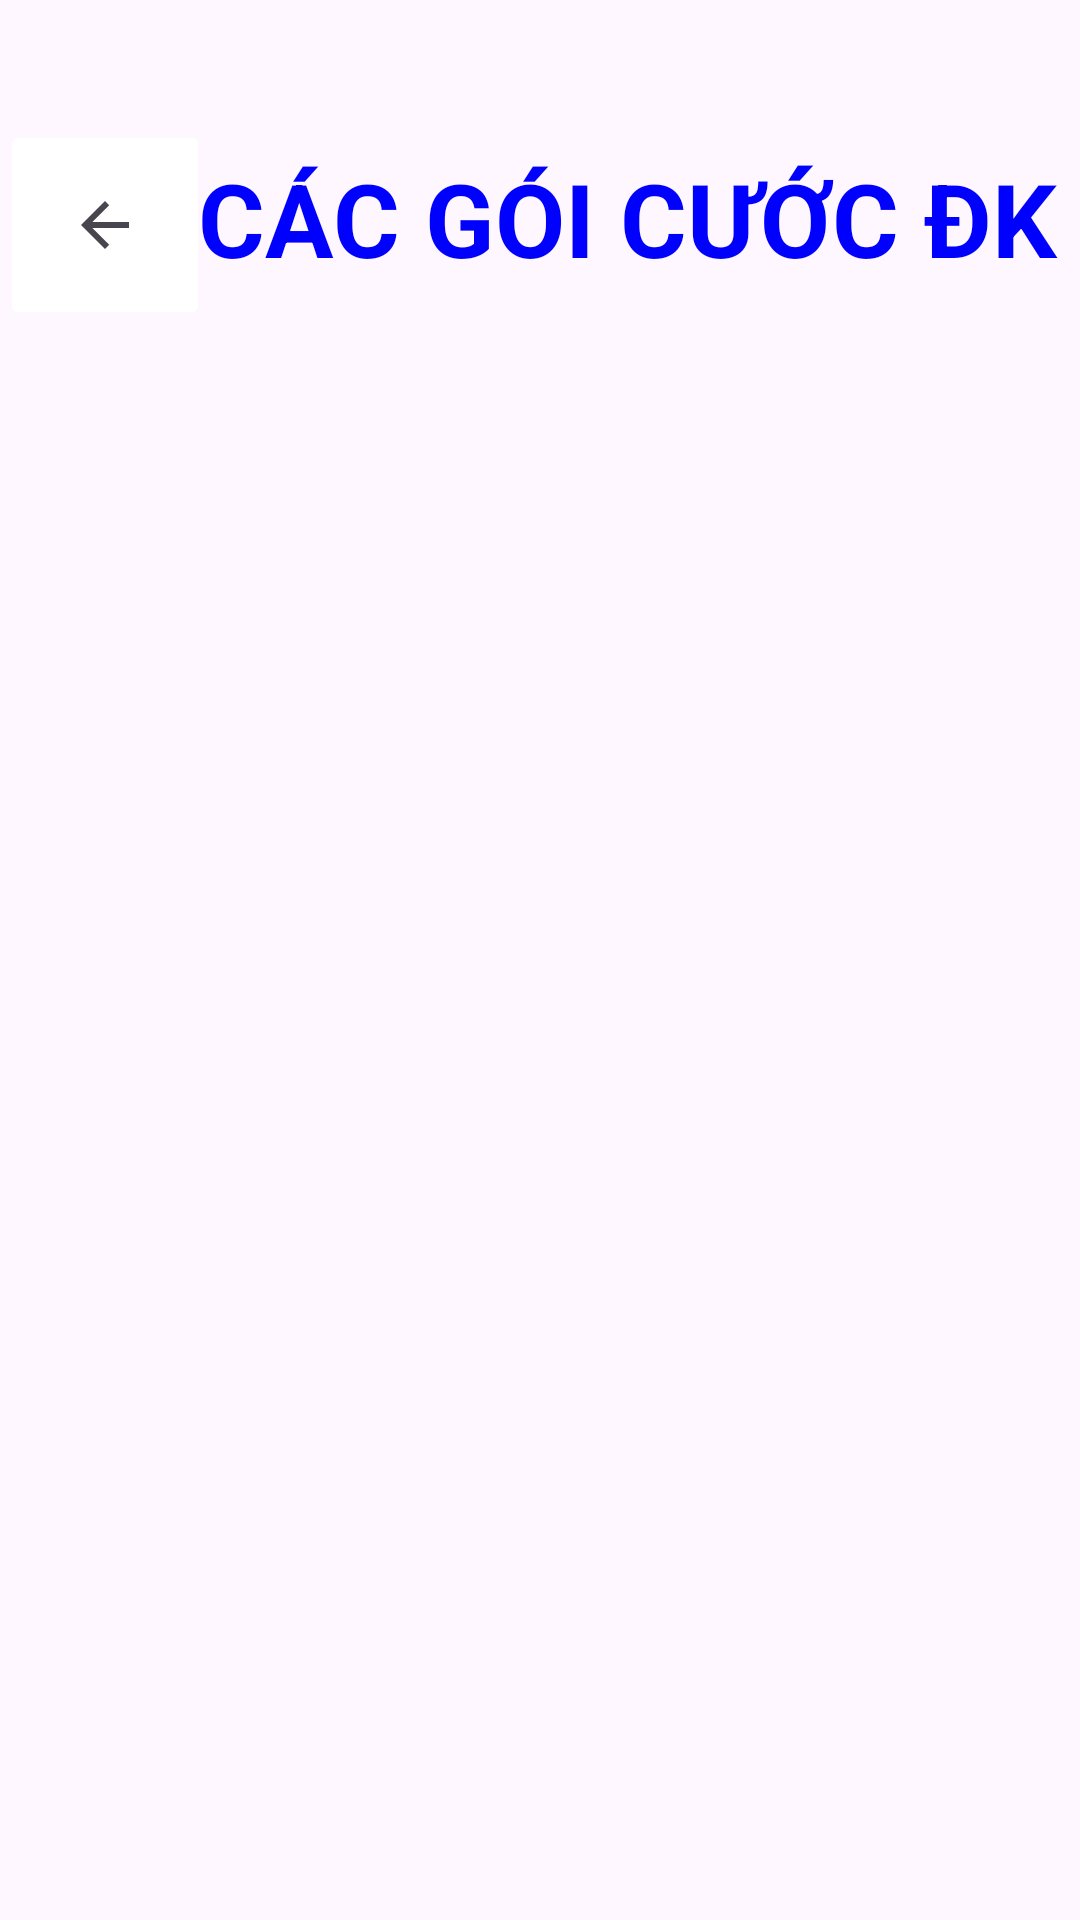

Where to tap for icons on this 1080 x 1920 app screen, as (x=x, y=y):
Nút quay lại: (x=111, y=225)
